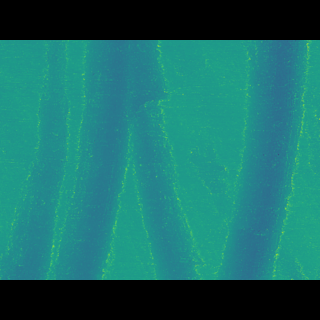Loch: (0, 68, 128, 249), (216, 70, 314, 250), (126, 70, 207, 249)
